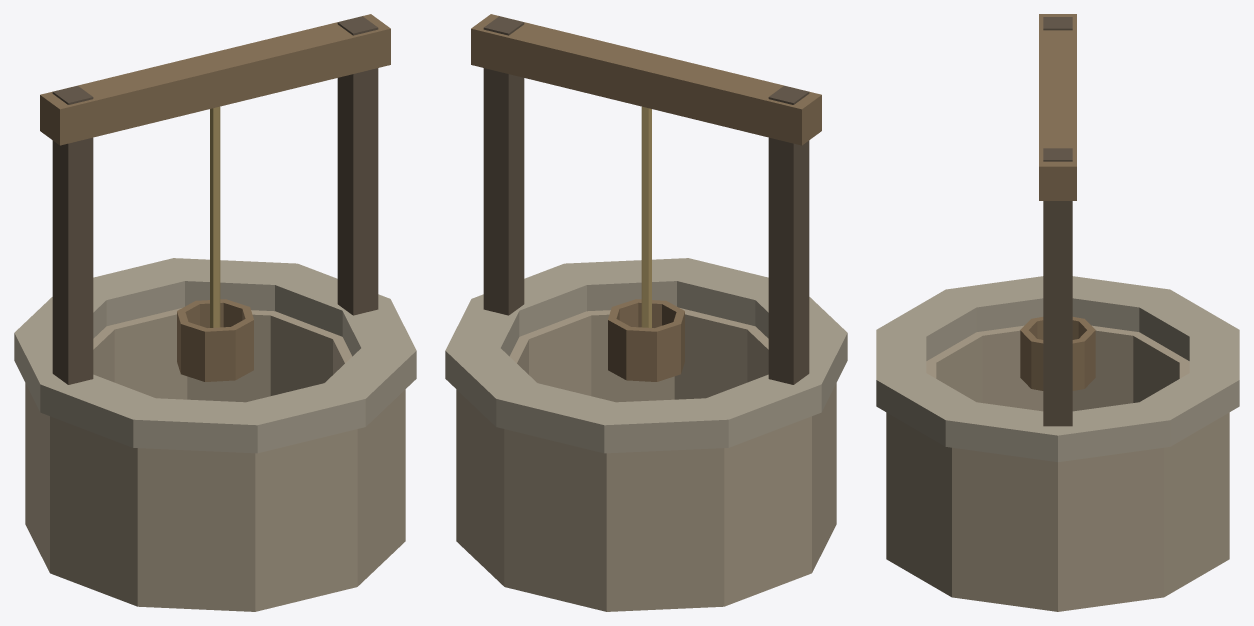
The model's file is Decor_Well.fbx.
The picture shows the model from 3 angles, left to right: view 1: azimuth 30°, elevation 25°; view 2: azimuth 150°, elevation 25°; view 3: azimuth 270°, elevation 25°; orthographic projection. The views are drawn at different scales.
Parts seen in each view (by area): view 1: Decor_Well; view 2: Decor_Well; view 3: Decor_Well.
Part boxes in pixels (x1=…): Decor_Well: x1=14, y1=14, x2=416, y2=611; Decor_Well: x1=445, y1=14, x2=847, y2=611; Decor_Well: x1=876, y1=14, x2=1239, y2=611.
Size of the model in its own units: 1.82 by 2.35 by 1.73.
